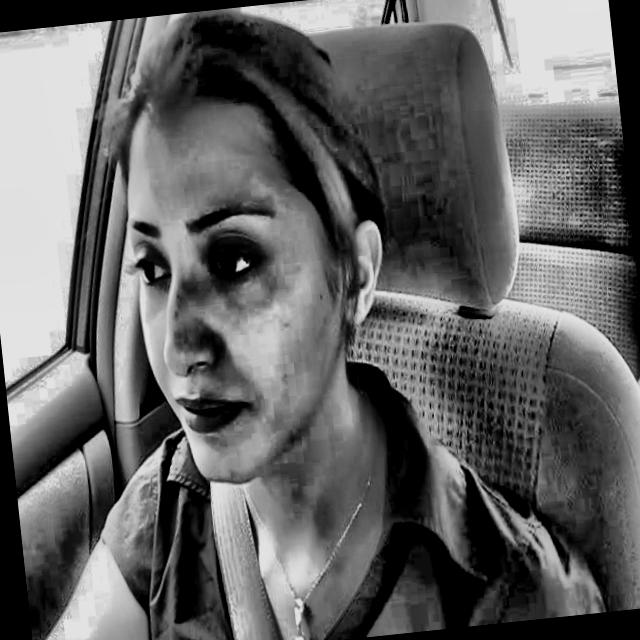closed_mouth: (153, 374, 273, 452)
open_eyes: (195, 230, 275, 293), (112, 246, 183, 306)
